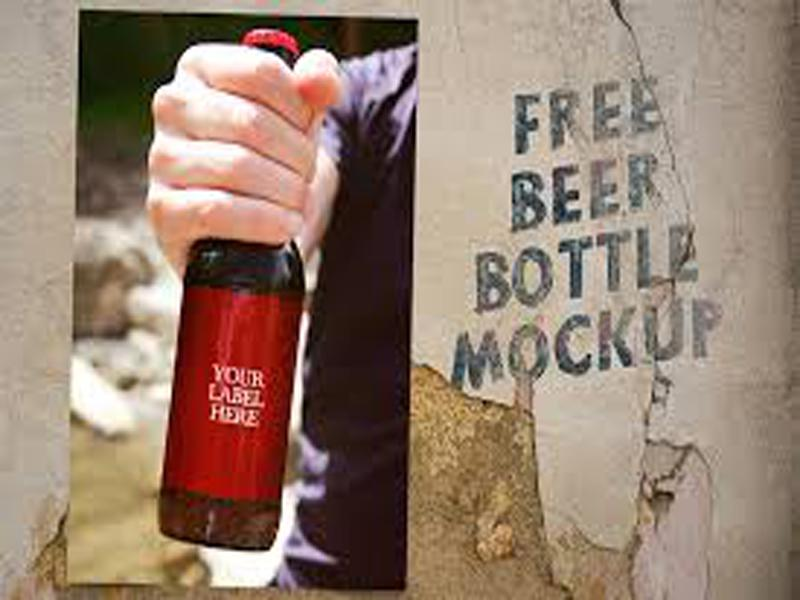Beer: (157, 30, 300, 551)
